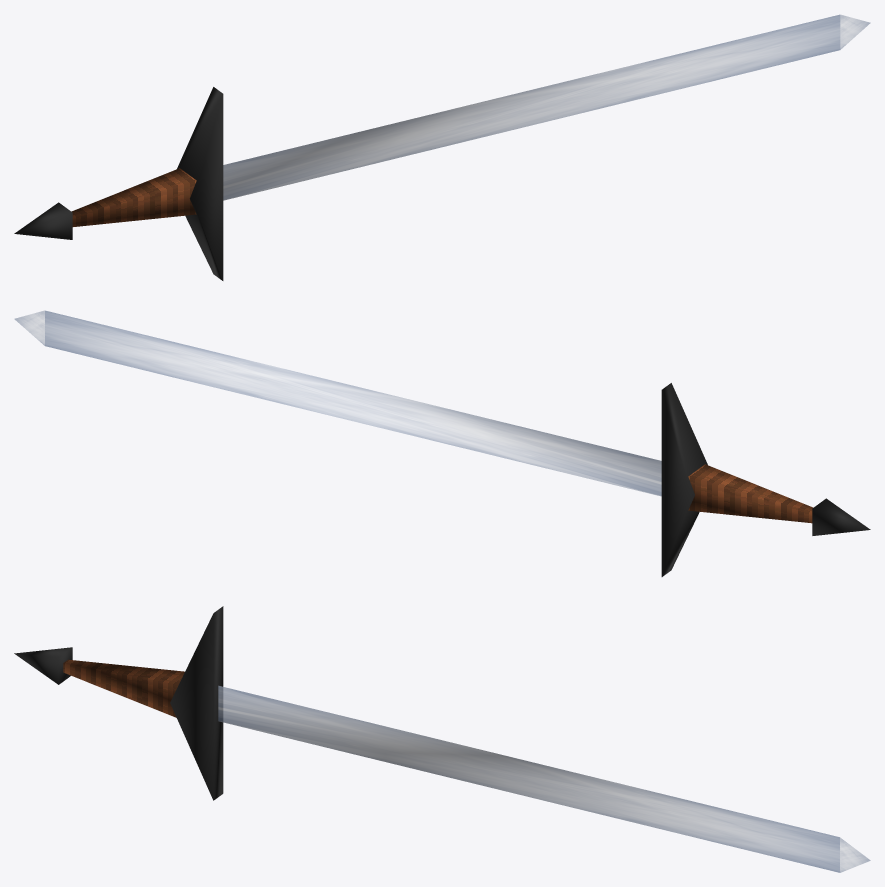
3 views of the same model, one above another, from view 1: azimuth 30°, elevation 25°; view 2: azimuth 150°, elevation 25°; view 3: azimuth 330°, elevation 25° (orthographic).
Visible parts, largest first — view 1: it188; view 2: it188; view 3: it188.
Boxes of the visible parts, left/top/right/bottom form: it188: left=14, top=14, right=870, bottom=280; it188: left=14, top=310, right=870, bottom=576; it188: left=14, top=606, right=870, bottom=872.
Bounding box in the file's own units: 3.15 × 0.6602 × 0.1481.
Materials: 3 (3 with a texture image).
